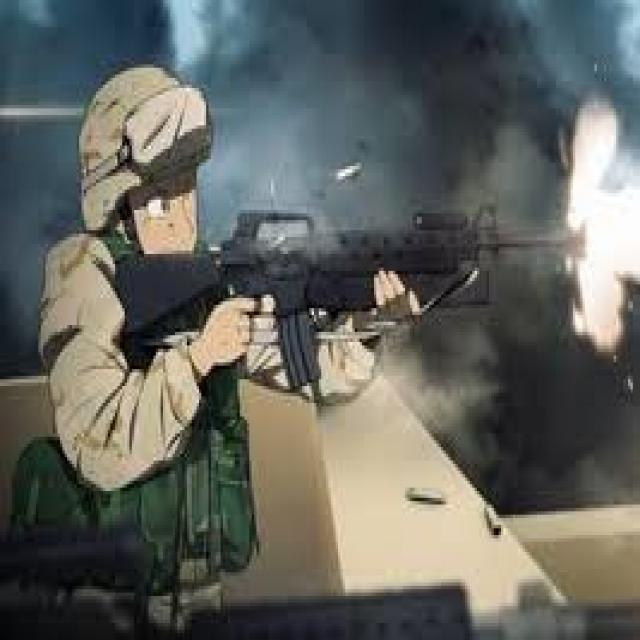weapon: (111, 214, 588, 388)
